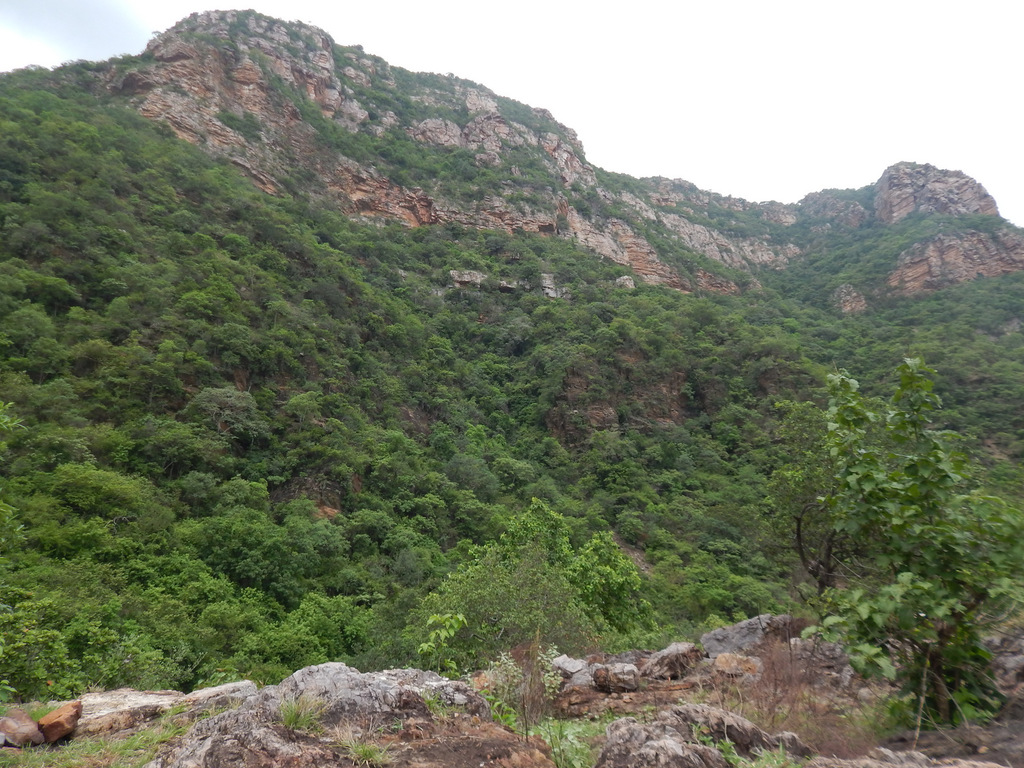Tree: (0, 44, 1024, 768)
